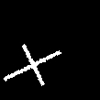single_crochet: (4, 44, 60, 85)
